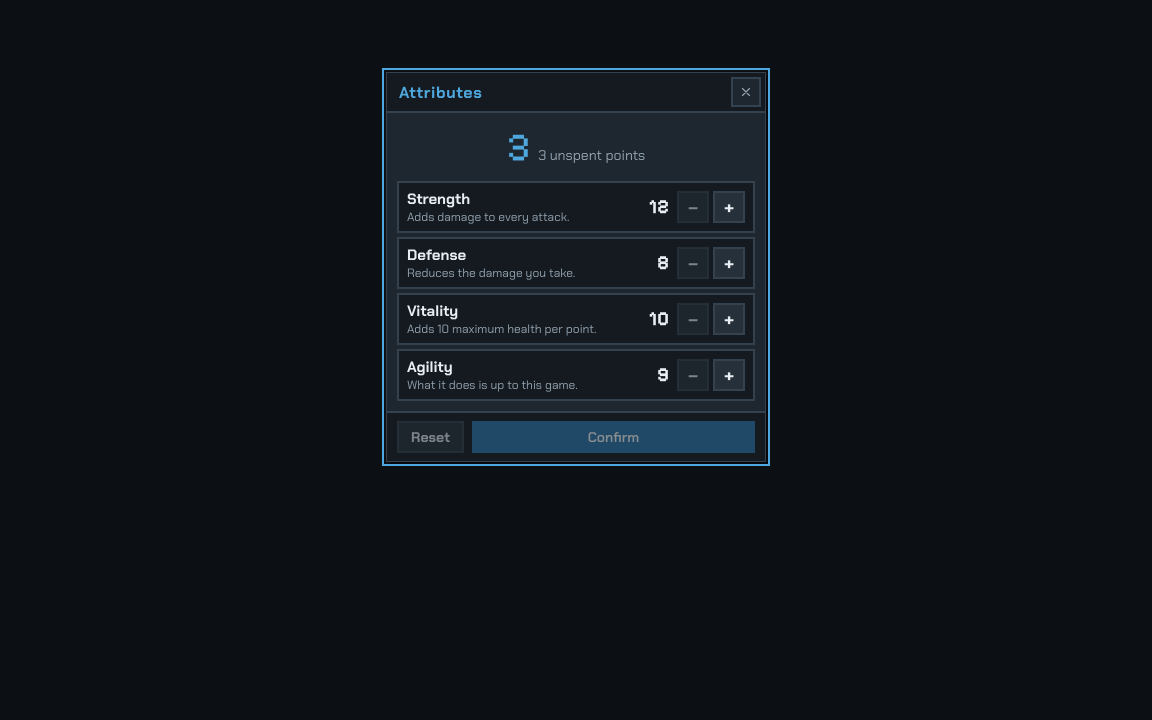
Test: AttributeDistributorModal › keeps what was queued and says why when the server refuses
Click the button named "Increase Agility".
click(729, 375)  # box [713, 359, 745, 391]
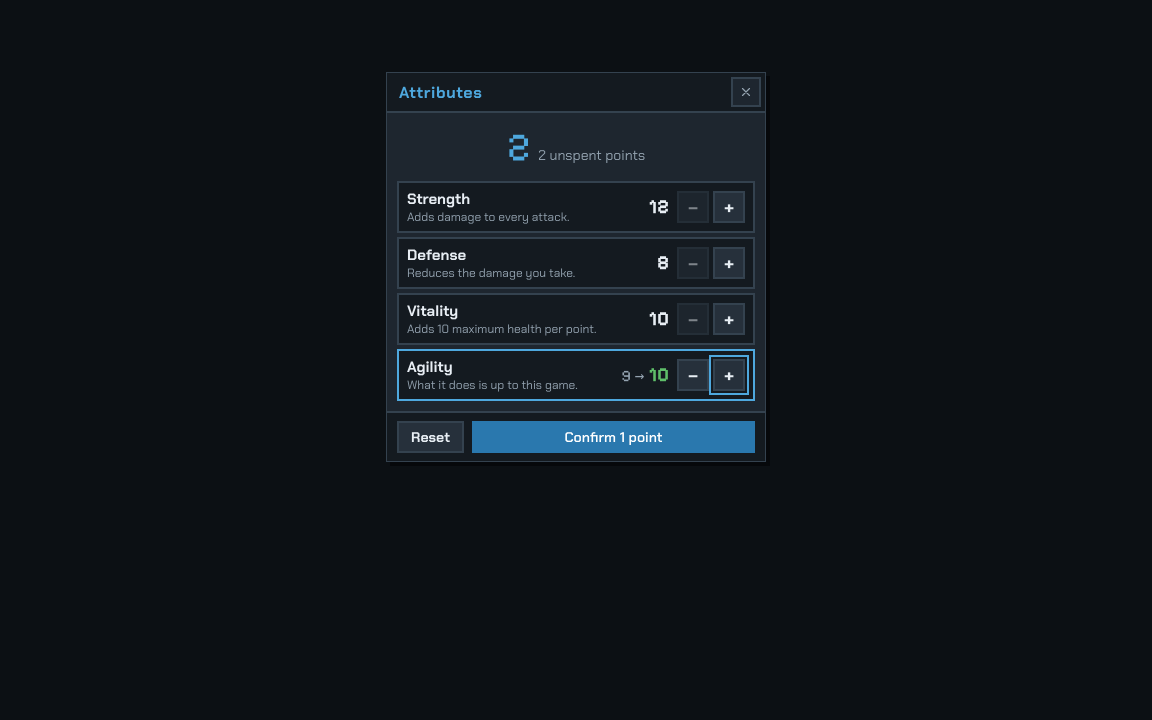
Click the button "Confirm 1 point".
click(614, 437)  # box [472, 421, 755, 453]
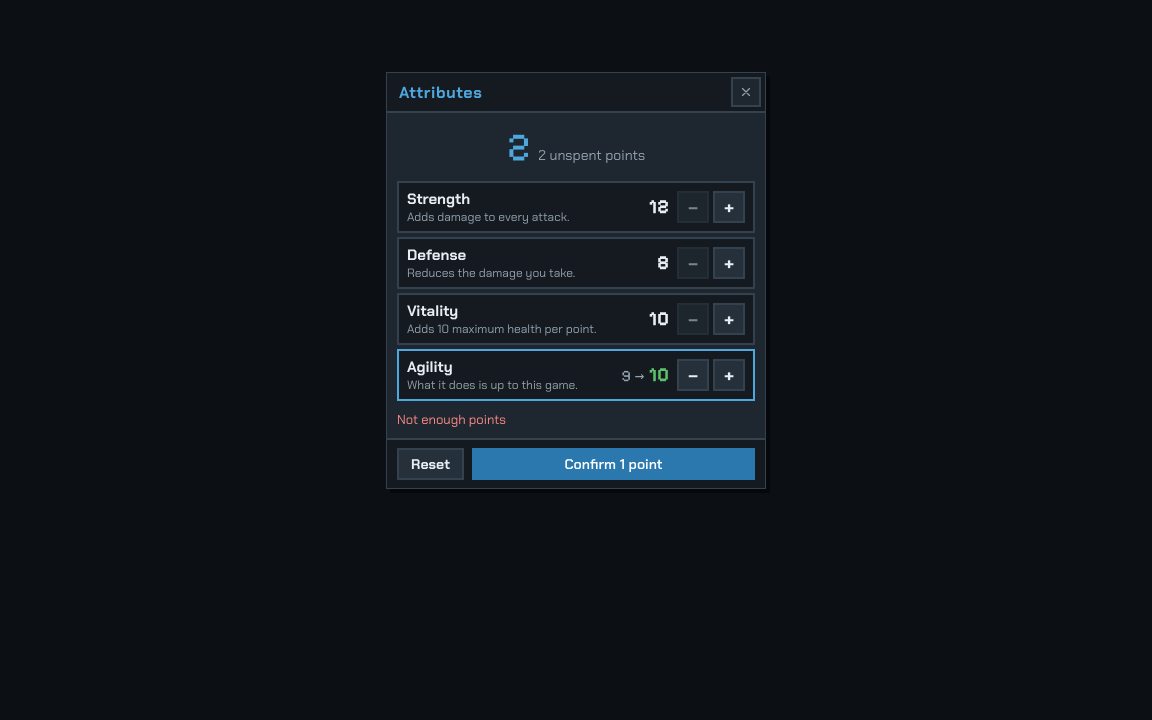
Expected: the element named "Agility 9 to 10" is shown, [621, 363, 669, 387]
Expected: the message reads "Not enough points", [397, 411, 506, 428]
